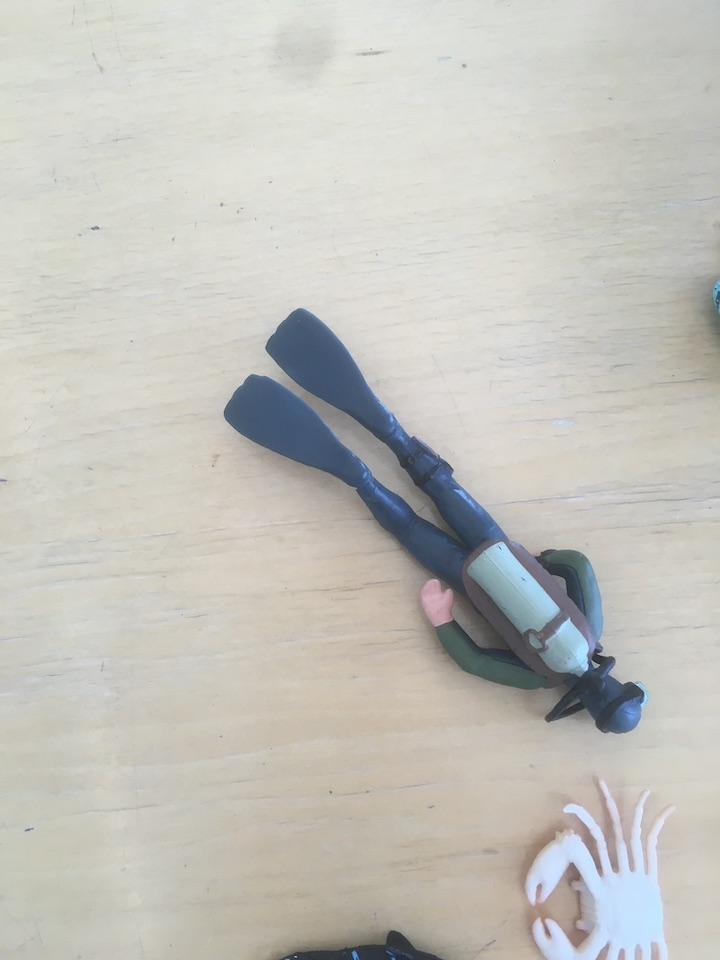crab: (521, 771, 678, 960)
diver: (218, 302, 652, 743)
